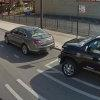Car: (4, 16, 65, 59)
